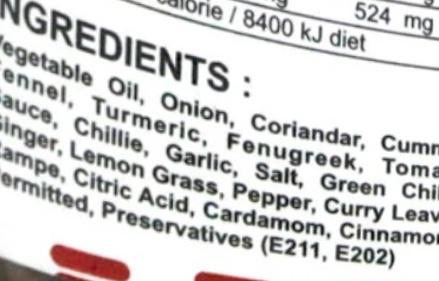ingredients: (0, 8, 439, 276)
